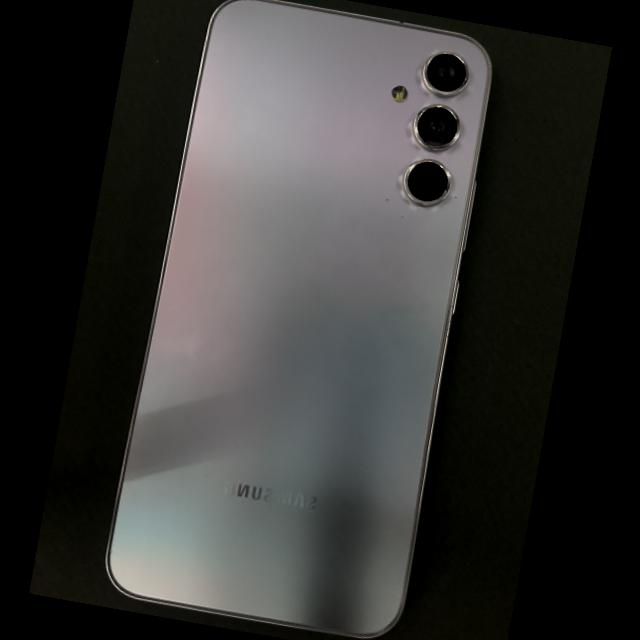lens: (404, 160, 449, 205), (413, 105, 458, 150), (422, 50, 467, 95)
phone: (107, 0, 489, 637)
